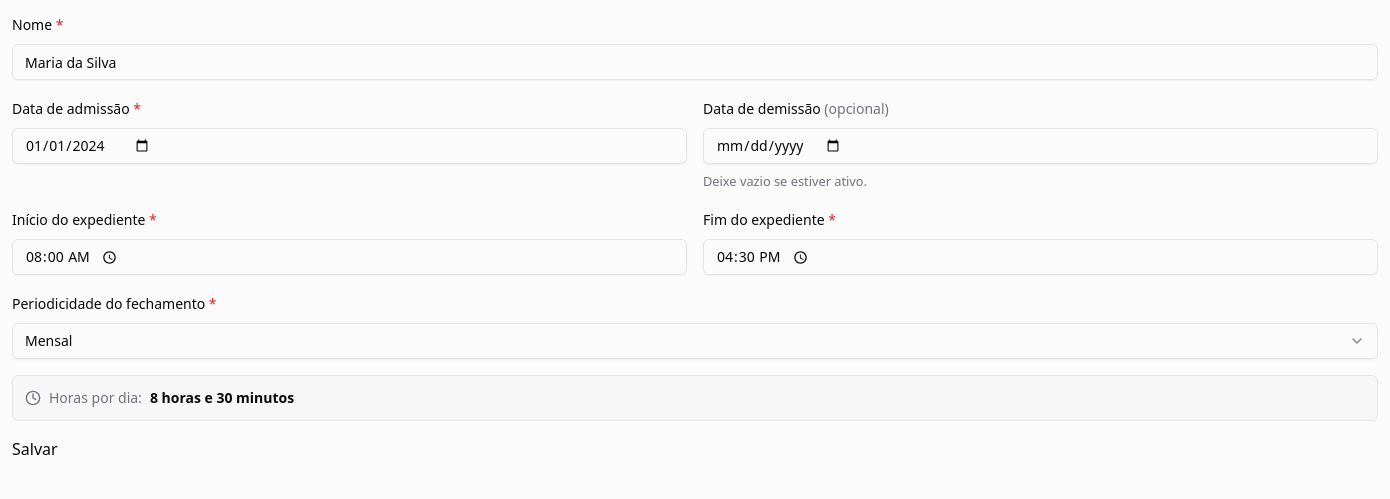
EmployeeForm › blocks digits in the name while typing and explains why
The width and height of the screenshot is (1390, 499).
Replace the text in the field labelled "Nome *" with "Maria 2" at {"x": 695, "y": 62}, box [12,44,1378,80]
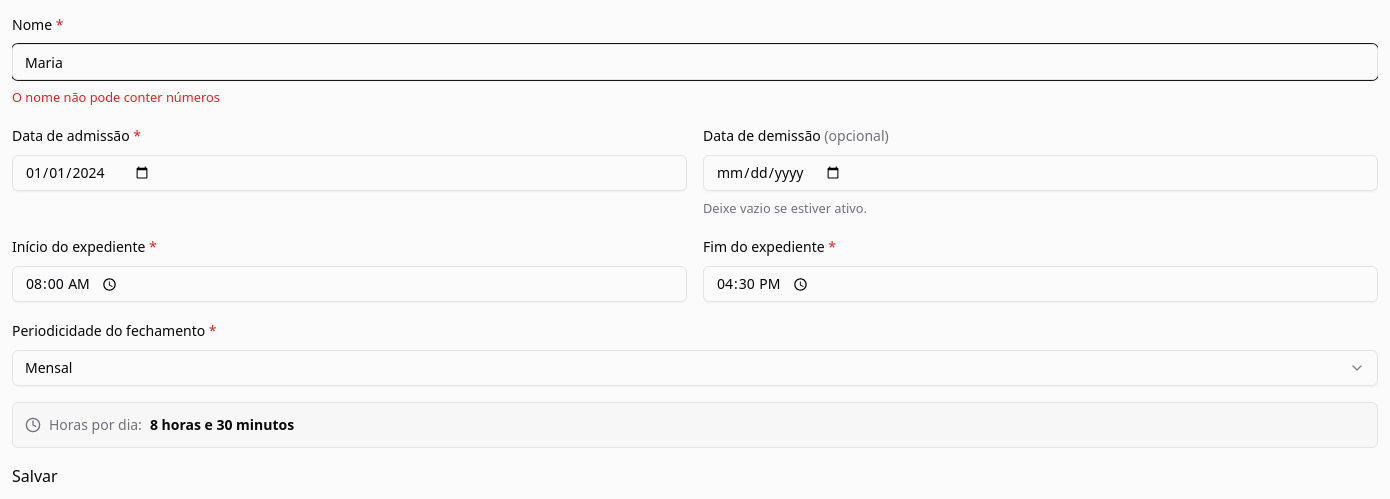
Expected: the field labelled "Nome *" holds "Maria "
Expected: the text "O nome não pode conter números" is shown, [12,88,220,106]
Type "Silva" into the field labelled "Nome *" at {"x": 695, "y": 62}, box [12,44,1378,80]
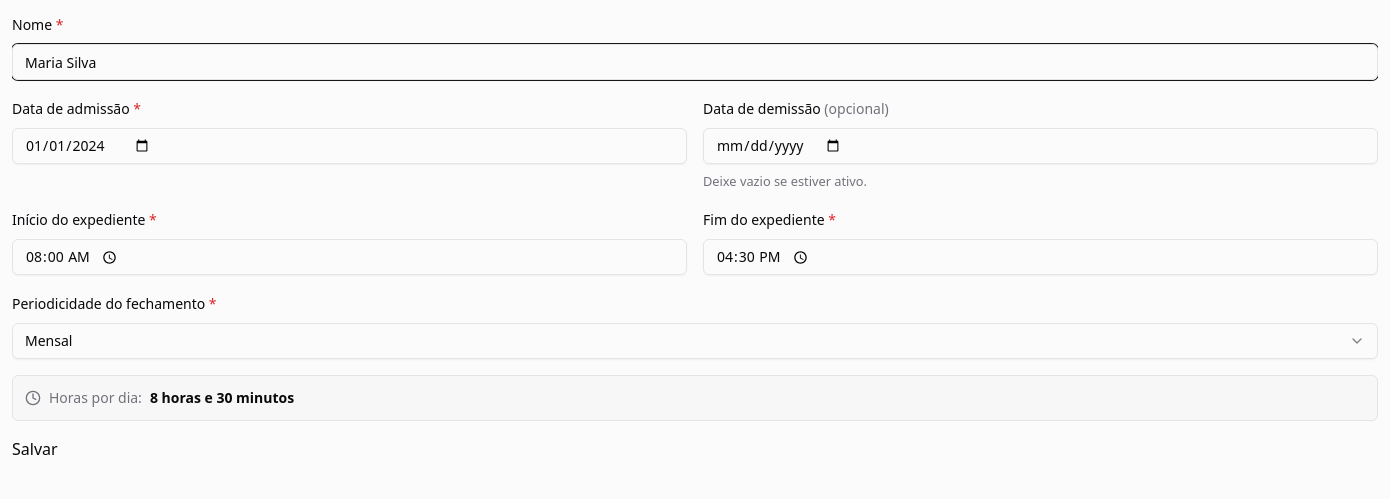
Expected: the field labelled "Nome *" holds "Maria Silva", [12,44,1378,80]
Expected: the text "O nome não pode conter números" is gone
